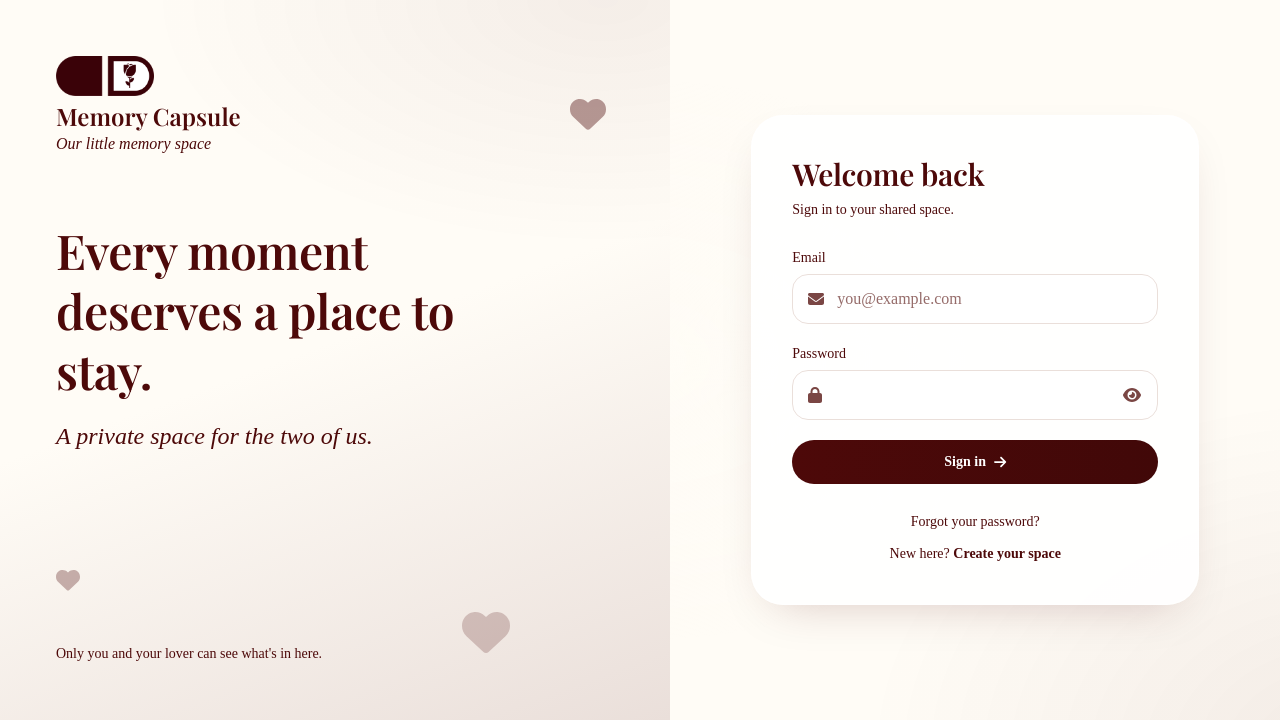
Test: email allowlist › blocks sign-in for other emails before any request is sent
Type "stranger@gmail.com" into the field labelled "Email" at (975, 299), box x1=792 y1=274 x2=1158 y2=324
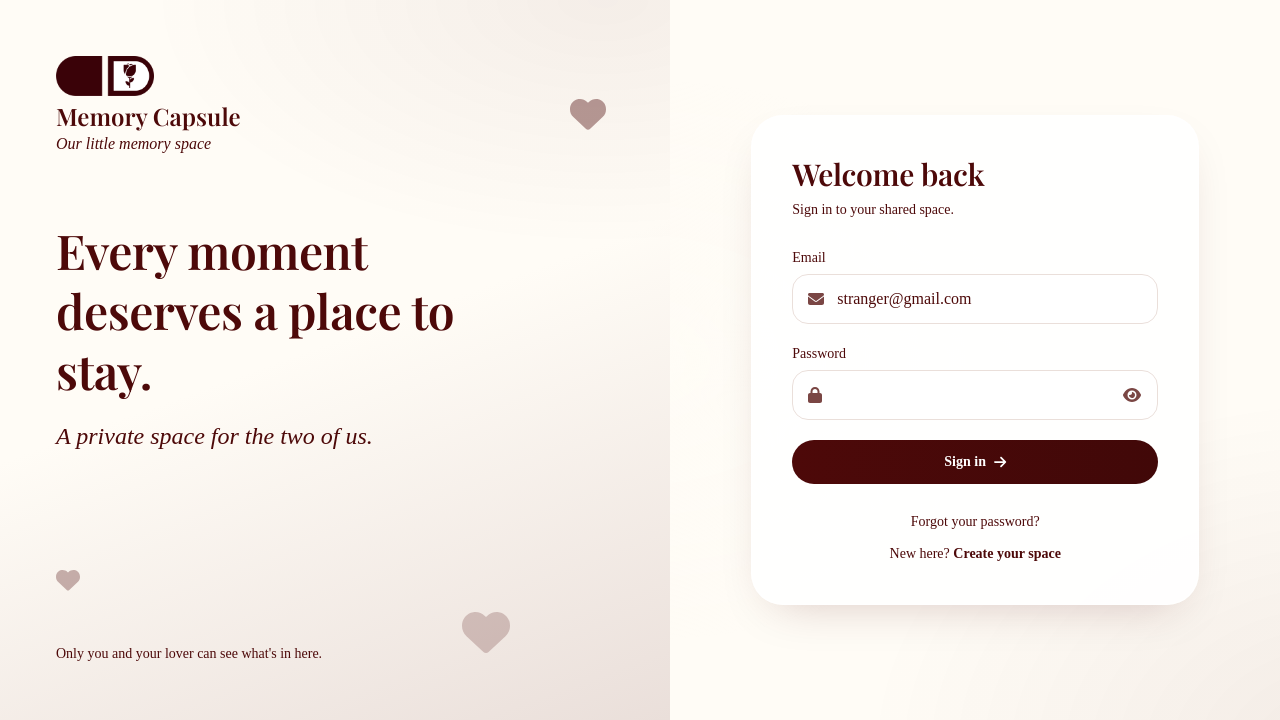
Type "password123" into the password field labelled "Password" at (975, 395), box x1=792 y1=370 x2=1158 y2=420
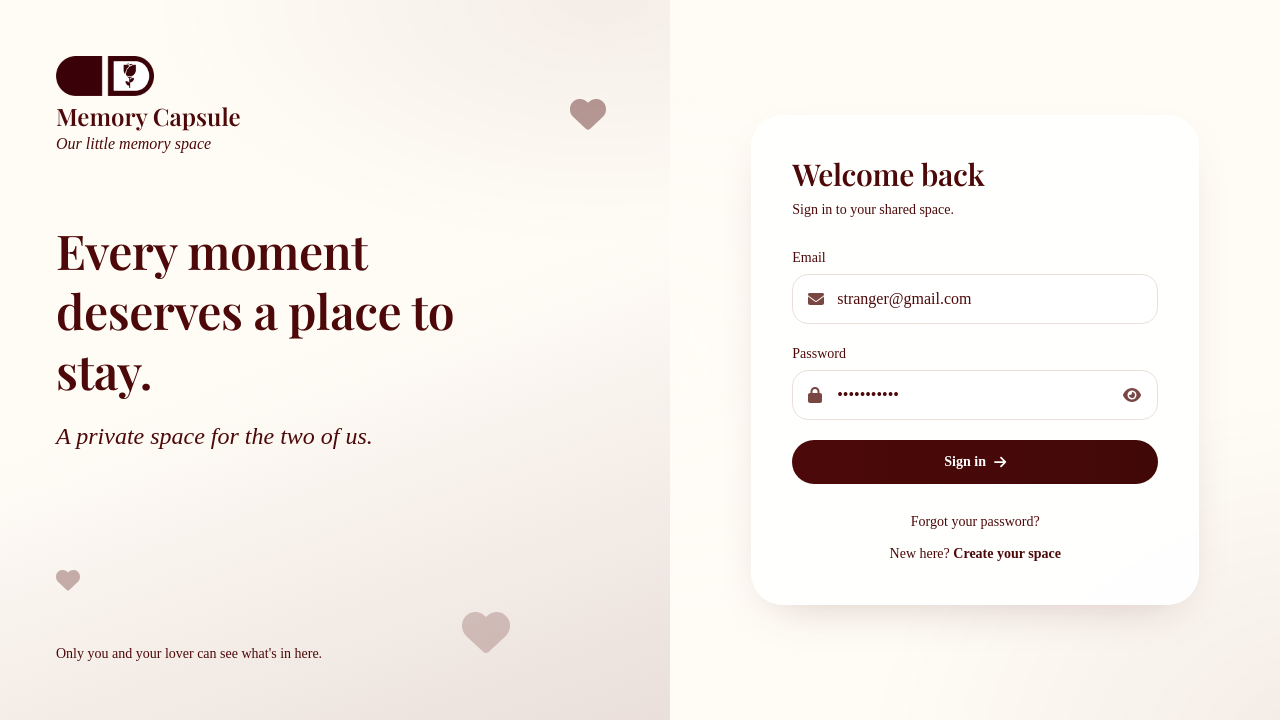
Click the button "Sign in" at (975, 462), box x1=792 y1=440 x2=1158 y2=484
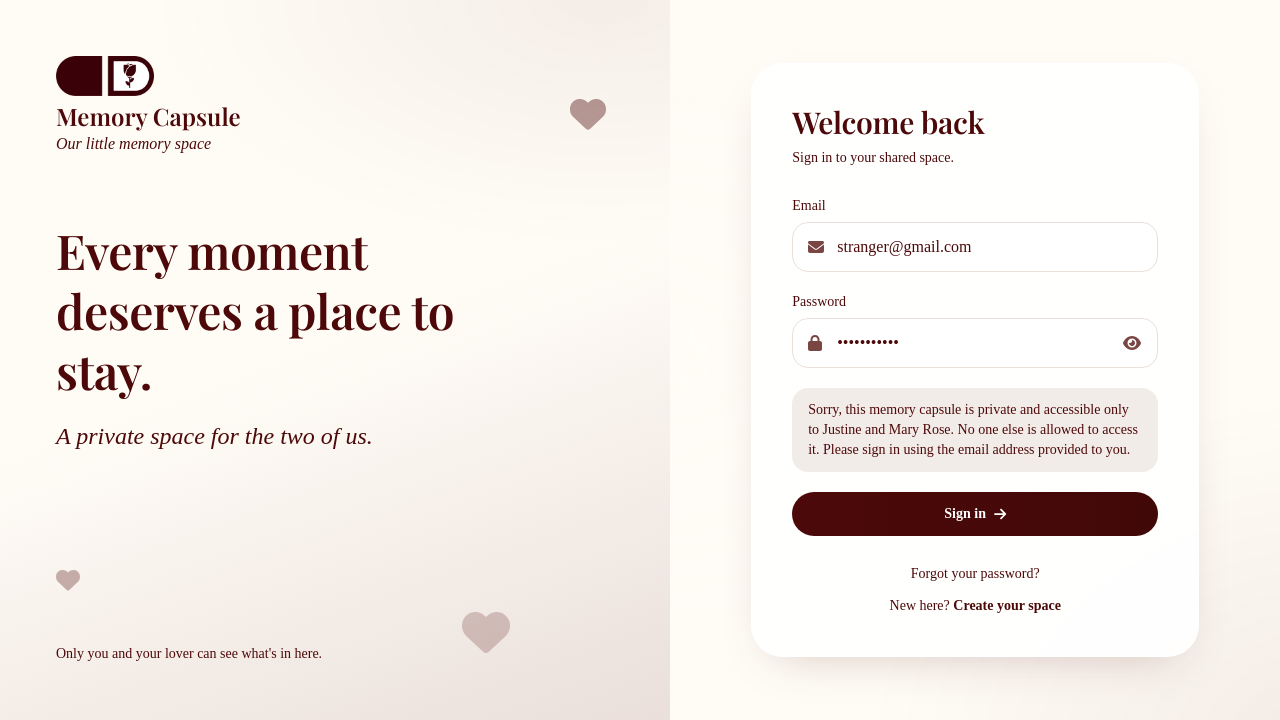
Check: the text "Sorry, this memory capsule is private and accessible only to Justine and Mary Rose. No one else is allowed to access it." is shown, box x1=808 y1=402 x2=1138 y2=457
